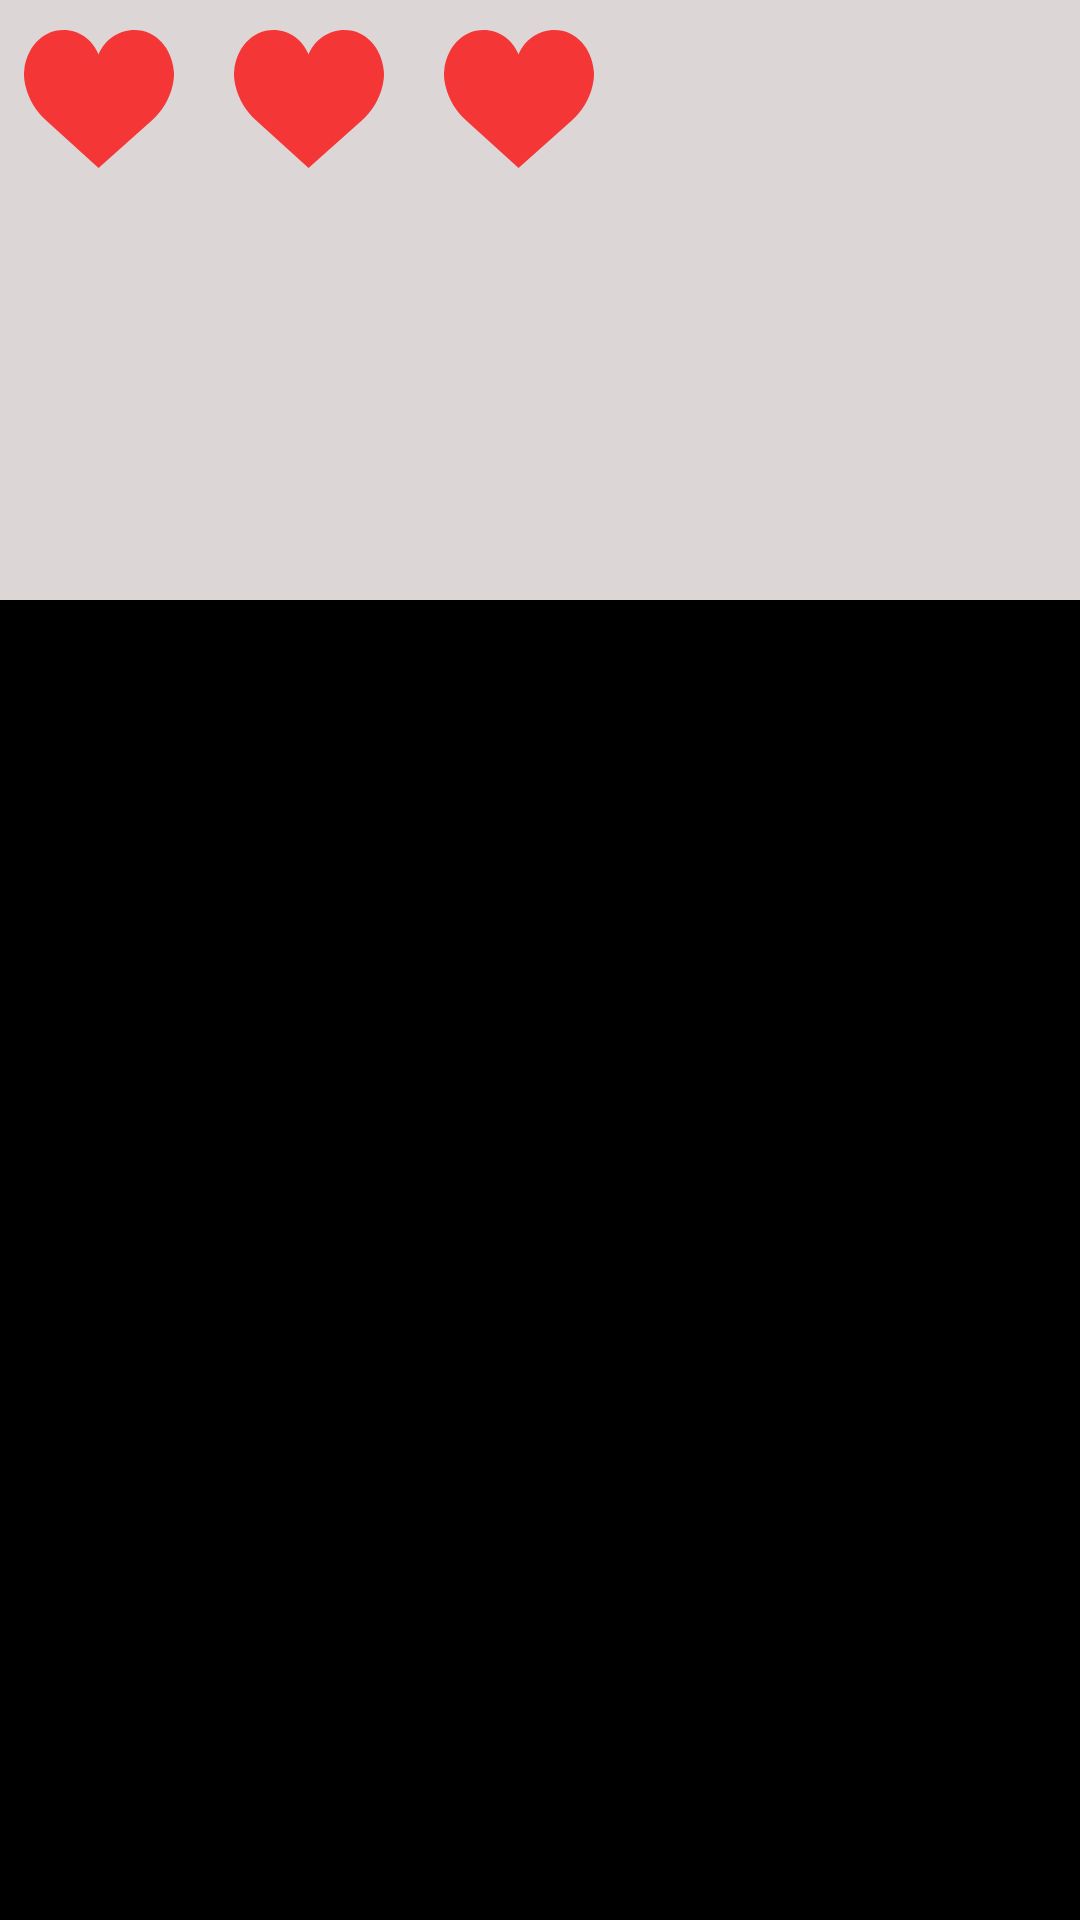

Screen size 1080 x 1920. Icon name, then its center in pixels as (x,y):
hart: (99,99), (309,99), (519,99)
